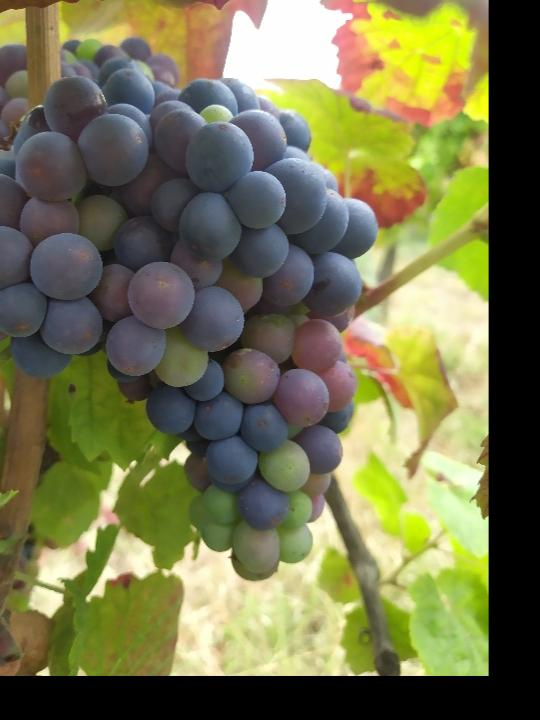grape: (0, 64, 383, 584)
